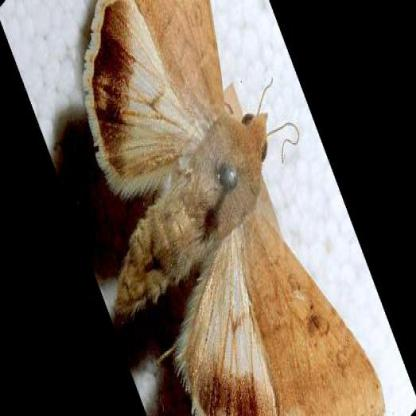helicoverpa: (85, 0, 386, 415)
